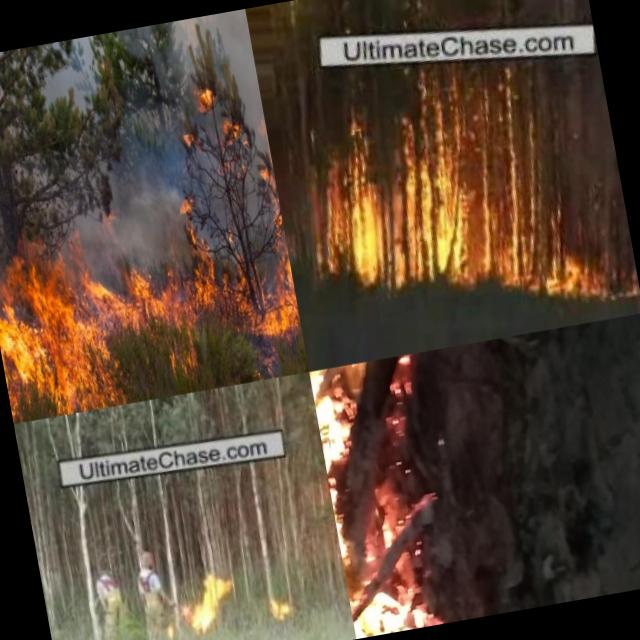fire: (306, 101, 614, 342), (95, 242, 302, 366), (0, 230, 113, 419), (181, 572, 238, 634), (225, 110, 253, 154), (264, 589, 293, 622), (194, 82, 218, 120), (264, 206, 286, 243), (255, 161, 274, 192), (180, 122, 198, 154), (174, 192, 194, 218), (233, 160, 249, 188), (220, 222, 233, 247), (188, 226, 200, 250)
